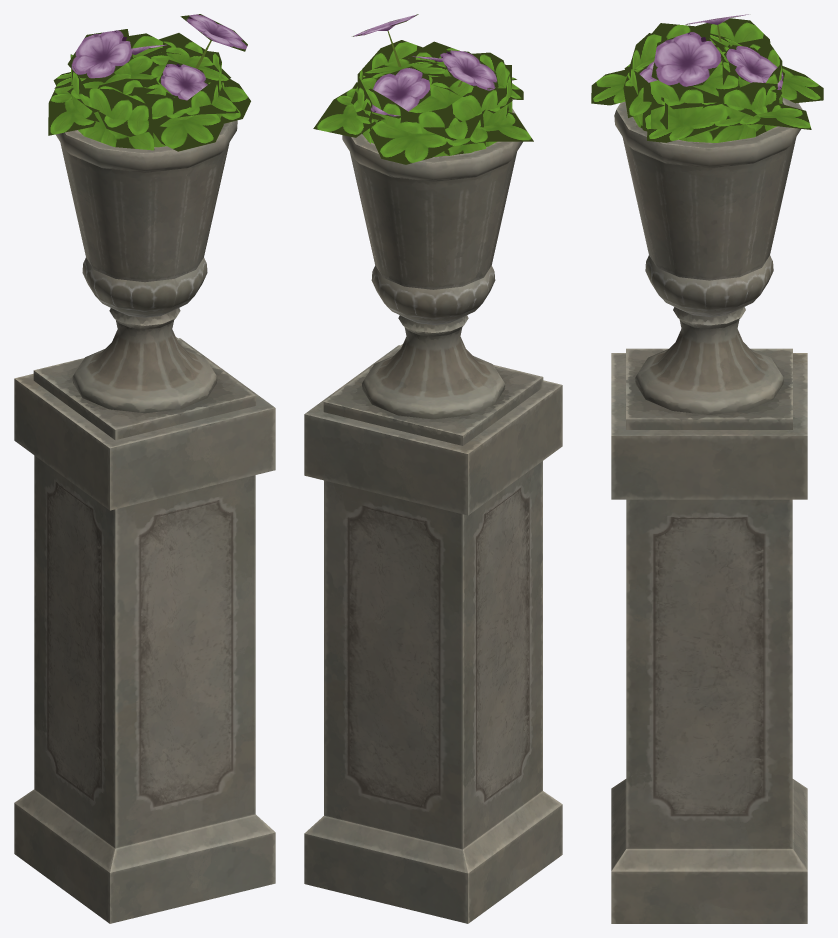
Rendered from balustrade_pillar_04.fbx.
The picture shows the model from 3 angles, left to right: view 1: azimuth 30°, elevation 25°; view 2: azimuth 150°, elevation 25°; view 3: azimuth 270°, elevation 25°; orthographic projection. The views are drawn at different scales.
Visible parts, largest first — view 1: balustrade_pillar_04, balustrade_pillar_04_plants; view 2: balustrade_pillar_04, balustrade_pillar_04_plants; view 3: balustrade_pillar_04, balustrade_pillar_04_plants.
Boxes of the visible parts, <box> form: balustrade_pillar_04: <box>14,120,275,923</box>; balustrade_pillar_04_plants: <box>48,14,250,151</box>; balustrade_pillar_04: <box>304,108,562,923</box>; balustrade_pillar_04_plants: <box>313,14,533,164</box>; balustrade_pillar_04: <box>611,97,807,923</box>; balustrade_pillar_04_plants: <box>591,14,823,142</box>.
Bounding box in the file's own units: 41.36 × 180 × 43.75.
